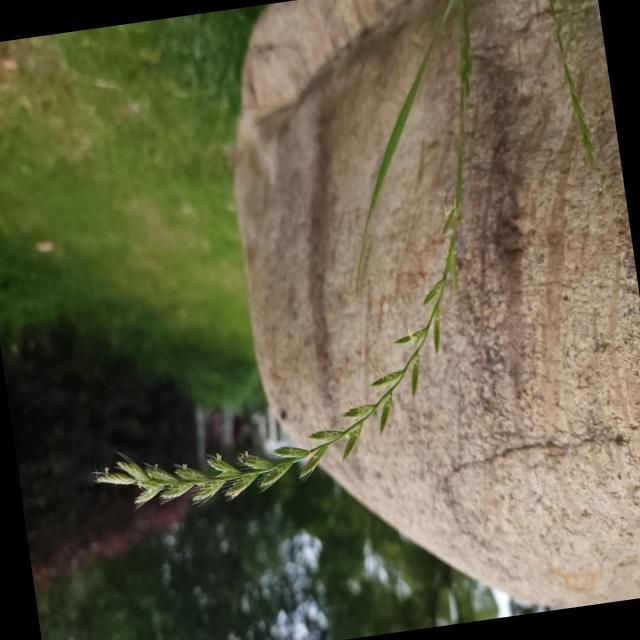Lolium: (28, 0, 538, 525)
